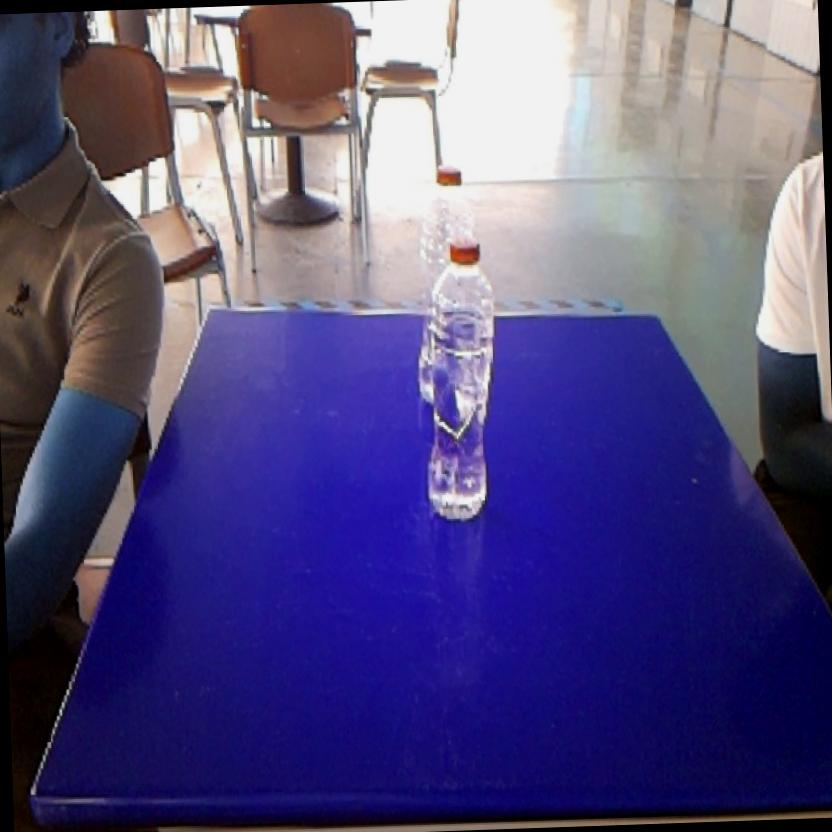no_label: (415, 232, 510, 532), (414, 152, 494, 246)
